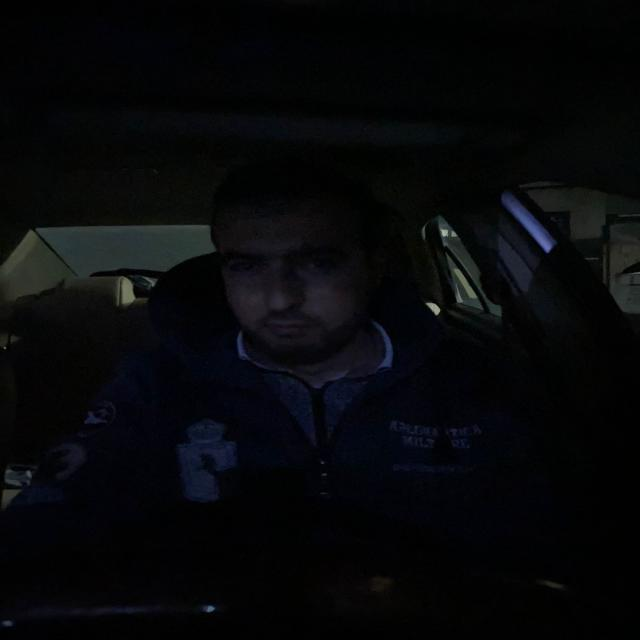person: (197, 140, 402, 371)
